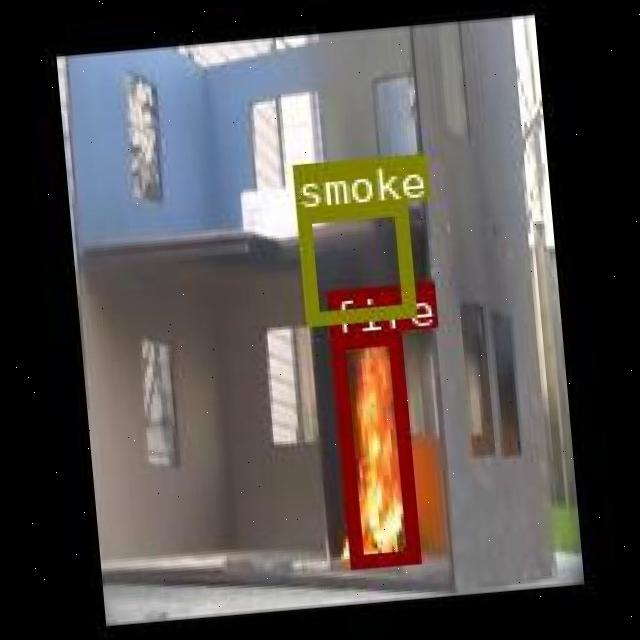fire: (328, 328, 418, 566)
smoke: (295, 198, 413, 322)
